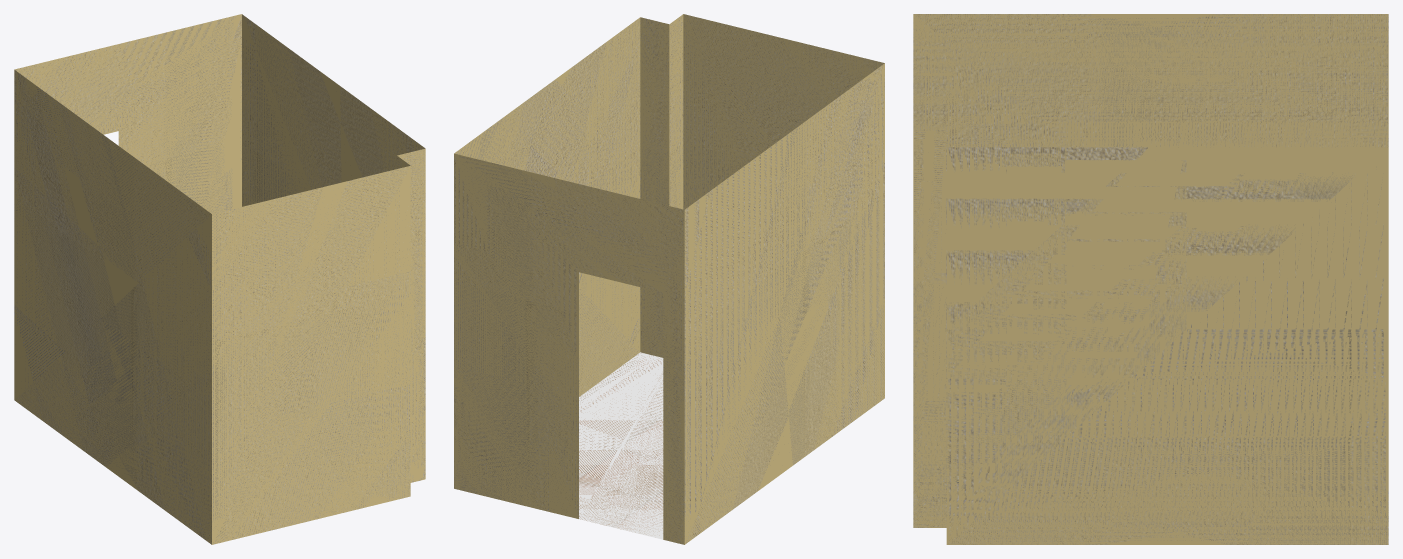
Rendered from CUA022.obj.
The picture shows the model from 3 angles, left to right: view 1: azimuth 30°, elevation 25°; view 2: azimuth 150°, elevation 25°; view 3: azimuth 270°, elevation 25°; orthographic projection. The views are drawn at different scales.
Parts seen in each view (by area): view 1: Mesh1 CUA022 Model; view 2: Mesh1 CUA022 Model; view 3: Mesh1 CUA022 Model.
Boxes of the visible parts, x1,y1,x2,y2 form: Mesh1 CUA022 Model: [14, 14, 425, 544]; Mesh1 CUA022 Model: [454, 14, 884, 544]; Mesh1 CUA022 Model: [913, 14, 1388, 544].
Bounding box in the file's own units: 2.14 × 2.98 × 3.22.
Materials: 4 (2 with a texture image).
